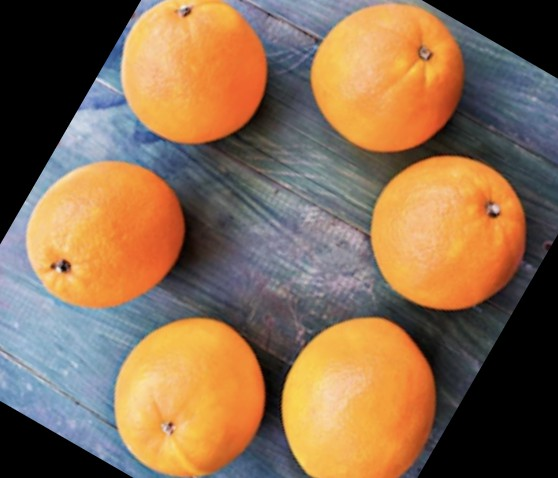fresh_orange: (279, 315, 437, 478), (116, 314, 267, 478), (371, 154, 525, 314), (23, 159, 186, 308), (310, 3, 465, 157), (118, 1, 268, 147)
